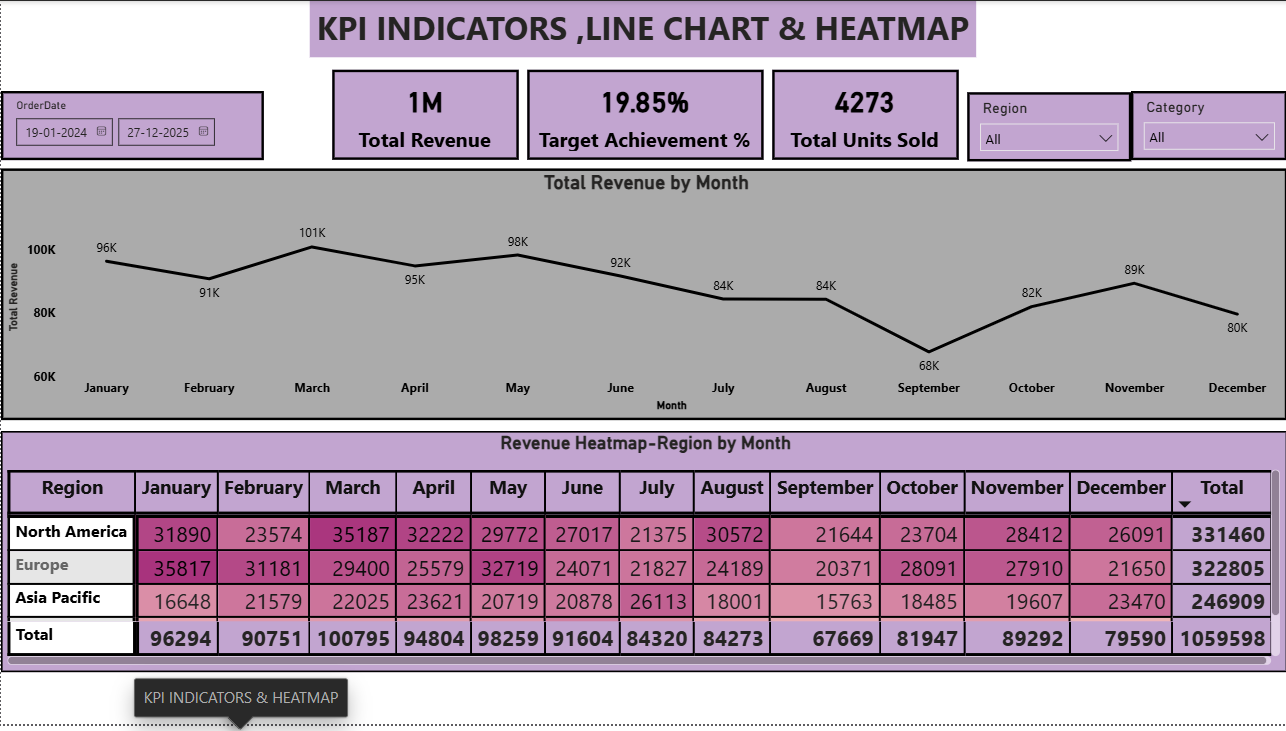

The dashboard page shown, as its layout file describes it:
{"tool":"powerbi","page":{"name":"KPI INDICATORS & HEATMAP","canvas":[1280,720],"ordinal":0},"visuals":[{"type":"card","fields":{"Values":["Sales.Total Revenue"]},"box":[329.6,68.4,185.3,89.6],"z":0},{"type":"card","fields":{"Values":["Sales.Target Achievement %"]},"box":[523.7,68.4,235.1,89.6],"z":1000},{"type":"card","fields":{"Values":["Sales.Total Units Sold"]},"box":[767.5,68.4,185.3,89.6],"z":2000},{"type":"pivotTable","title":"Revenue Heatmap-Region by Month","fields":{"Rows":["Regions.Region"],"Columns":["Sales.OrderDate.Variation.Date Hierarchy.Month"],"Values":["Sales.Total Revenue"]},"box":[0,427.9,1280,240.1],"z":3000},{"type":"textbox","box":[307.3,0,663,56],"z":4000},{"type":"lineChart","fields":{"Y":["Sales.Total Revenue"],"Category":["Sales.OrderDate.Variation.Date Hierarchy.Month"]},"box":[0,166.7,1280,250],"z":5000},{"type":"slicer","fields":{"Values":["Regions.Region"]},"box":[961.6,90.8,163,68.4],"z":6000},{"type":"slicer","fields":{"Values":["Products.Category"]},"box":[1124.5,89.6,155.5,68.4],"z":7000},{"type":"slicer","fields":{"Values":["Sales.OrderDate"]},"box":[0,89.6,261.2,68.4],"z":8000}]}

Visuals, with their boxes in screenshot pixels (x1, y1, x2, y2), scaled from the page's 1280x720 canvas onto the 1286x731 screenshot:
card - Sales.Total Revenue: [x1=331, y1=69, x2=517, y2=160]
card - Sales.Target Achievement %: [x1=526, y1=69, x2=762, y2=160]
card - Sales.Total Units Sold: [x1=771, y1=69, x2=957, y2=160]
"Revenue Heatmap-Region by Month" pivotTable: [x1=0, y1=434, x2=1285, y2=678]
textbox: [x1=309, y1=0, x2=975, y2=57]
lineChart - Sales.Total Revenue x Sales.OrderDate.Variation.Date Hierarchy.Month: [x1=0, y1=169, x2=1285, y2=423]
slicer - Regions.Region: [x1=966, y1=92, x2=1130, y2=162]
slicer - Products.Category: [x1=1130, y1=91, x2=1285, y2=160]
slicer - Sales.OrderDate: [x1=0, y1=91, x2=262, y2=160]
